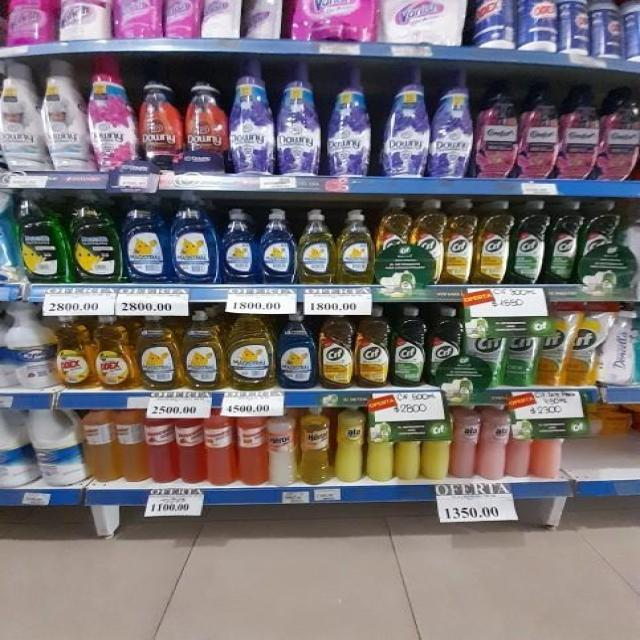ala_crem_amarillo: (334, 406, 364, 483)
cif_conc_bot_amarilla: (376, 198, 412, 288), (476, 199, 511, 285), (318, 309, 354, 390), (412, 198, 444, 287), (356, 306, 390, 388), (445, 198, 476, 286)
cif_conc_botella_verde: (392, 306, 427, 388), (513, 200, 546, 285), (429, 306, 463, 388), (548, 199, 580, 285)
cif_conc_sachet_amarillo: (569, 308, 600, 388), (538, 308, 568, 388)
cif_conc_sachet_verde: (504, 309, 536, 388)
heroe: (298, 405, 331, 485), (268, 409, 296, 486)
magistral_con_amarillo: (227, 312, 275, 390), (182, 309, 225, 391), (137, 314, 180, 390), (336, 208, 374, 285), (298, 208, 335, 286)
magistral_con_azul: (172, 195, 218, 285), (124, 192, 168, 284), (278, 312, 316, 390), (220, 207, 258, 285), (260, 208, 296, 285)
